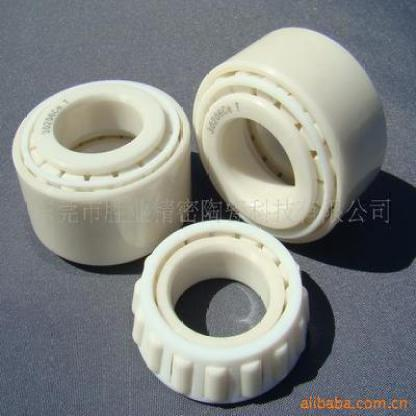FOD: (189, 20, 390, 252), (10, 73, 190, 272), (128, 219, 311, 410)
